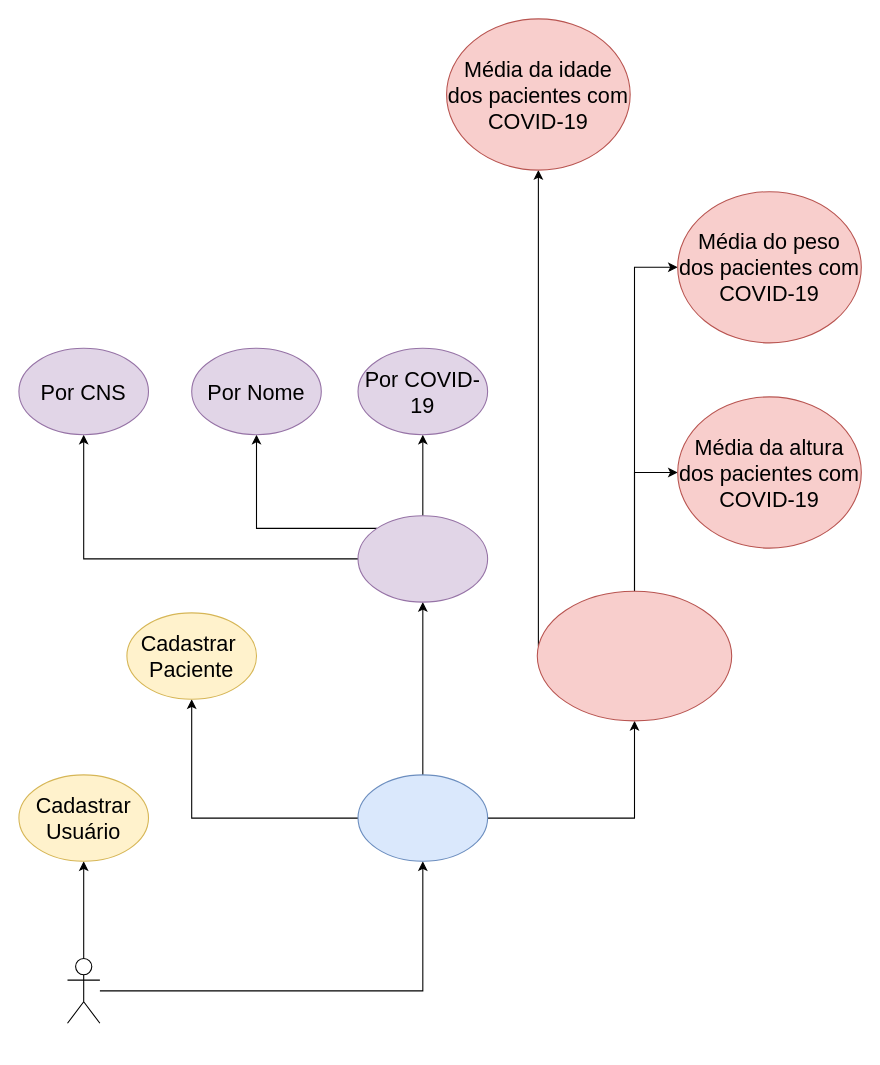
Image size: 880x1065. Some labels were removed from this diagram. Each missing label, with the box of its shape:
Calcular índices estatísticos: (536, 590, 732, 721)
Efetuar Login: (357, 774, 488, 861)
Médico / Enfermeiro: (66, 957, 100, 1023)
Pesquisar Paciente: (357, 515, 488, 602)
